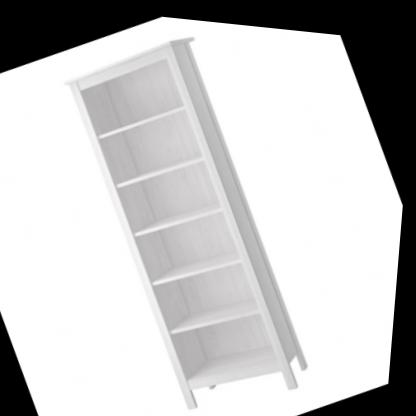Cabinet: (38, 13, 351, 416)
